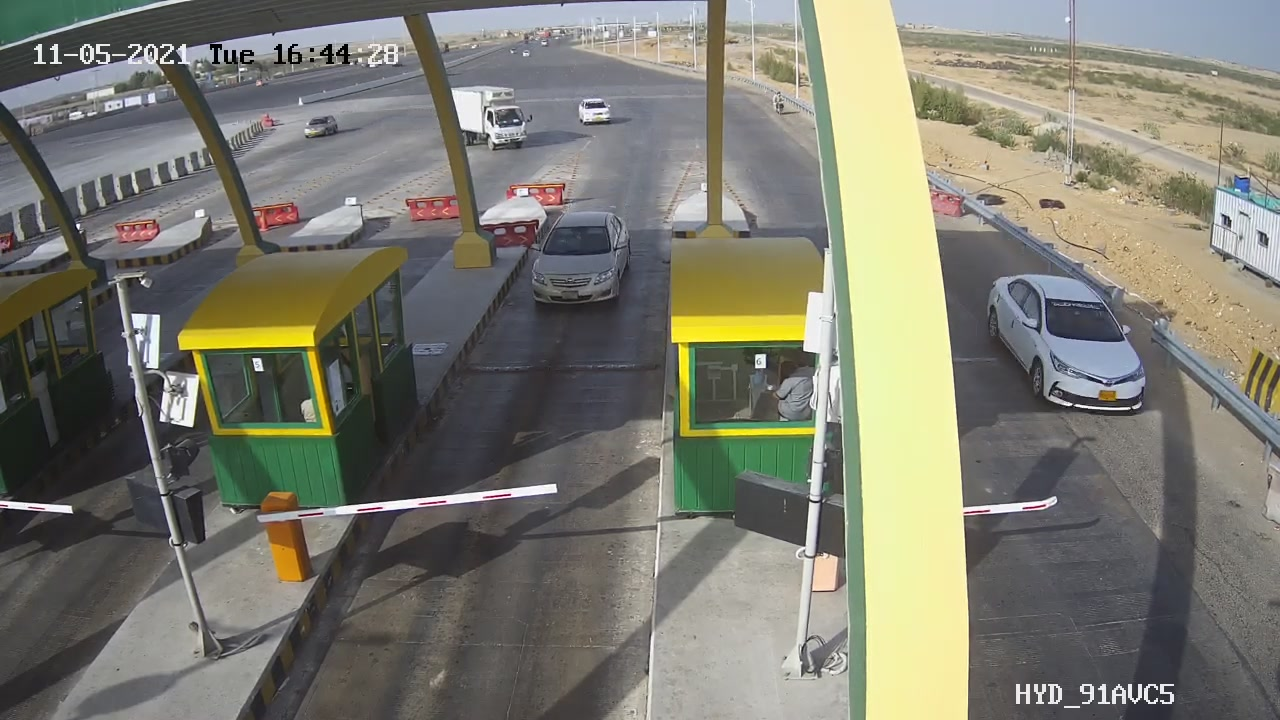F1: (502, 197, 657, 325)
